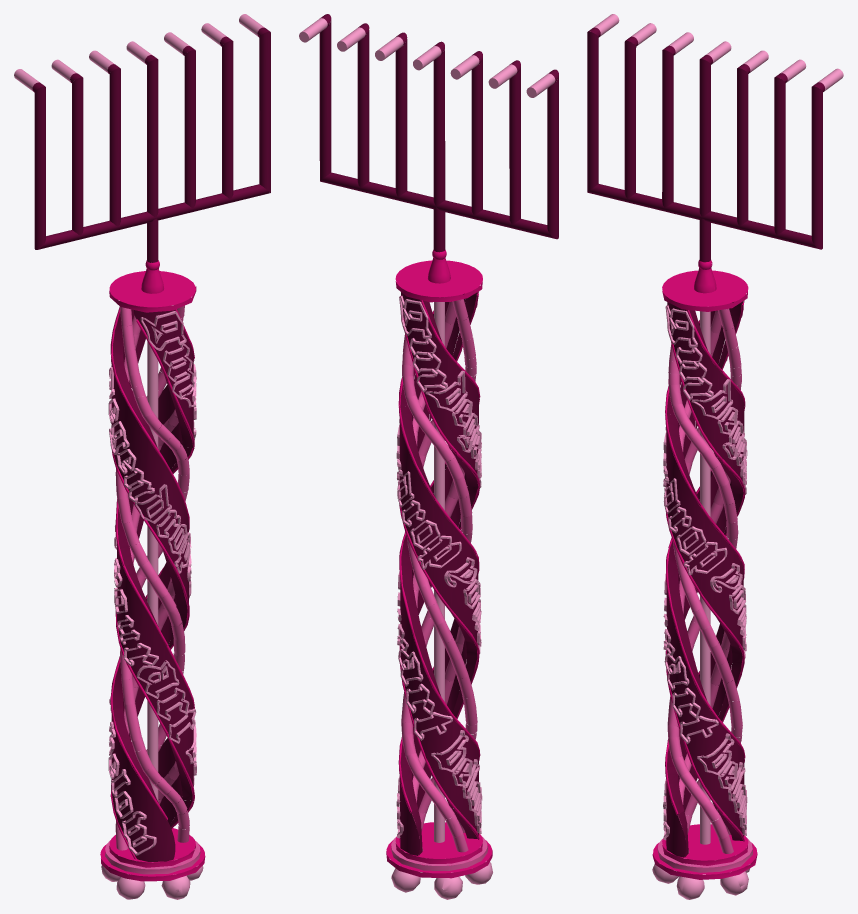
File: osirisrake-candle-v123.glb
3 renders of one model, left to right at view 1: azimuth 30°, elevation 25°; view 2: azimuth 150°, elevation 25°; view 3: azimuth 330°, elevation 25°, orthographic.
Visible parts, largest first — view 1: açıkmavi,; view 2: açıkmavi,; view 3: açıkmavi,.
Boxes of the visible parts, bbox=[...] form: açıkmavi,: bbox=[14, 14, 270, 899]; açıkmavi,: bbox=[299, 14, 558, 899]; açıkmavi,: bbox=[587, 14, 843, 899].
Bounding box in the file's own units: 0.4772 × 1.61 × 0.185.
Materials: 1 (1 with a texture image).
